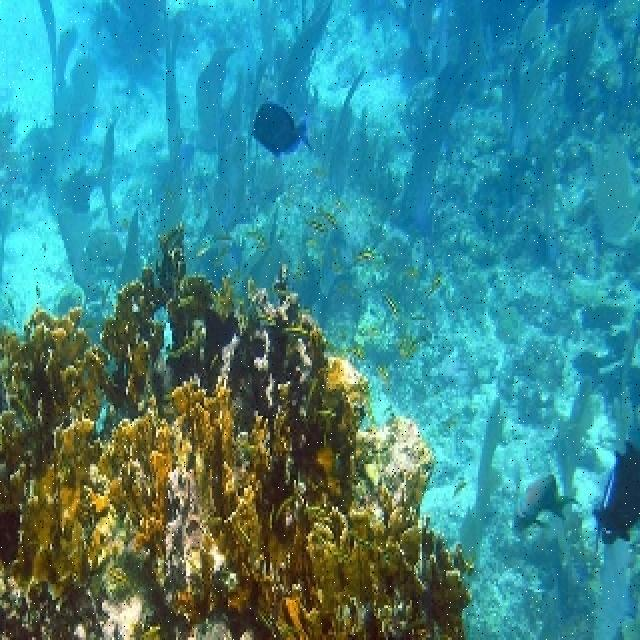fish: (252, 102, 317, 159)
reefs: (1, 223, 478, 635)
